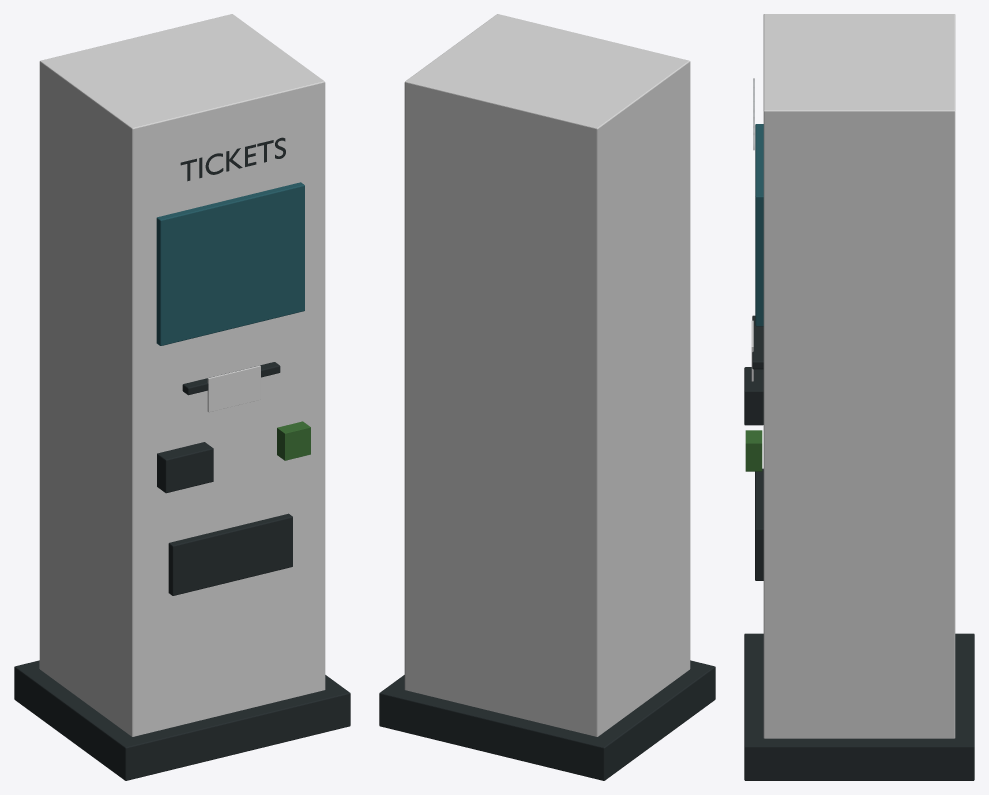
Rendered from ticket-machine.glb.
3 views of the same model, side by side, from view 1: azimuth 30°, elevation 25°; view 2: azimuth 150°, elevation 25°; view 3: azimuth 270°, elevation 25° (orthographic). The views are drawn at different scales.
Visible parts, largest first — view 1: Cabinet, Screen, Base, Receipt_Recess, Card_Reader, Ticket_Paper, Button, Editable_Label_TICKETS, Slot; view 2: Cabinet, Base; view 3: Cabinet, Base, Screen, Card_Reader, Receipt_Recess, Button, Slot.
Part boxes in pixels (x1,y1,x2,y2): Cabinet: [39, 14, 325, 736]; Screen: [156, 182, 304, 345]; Base: [14, 660, 350, 780]; Receipt_Recess: [168, 513, 292, 595]; Card_Reader: [157, 442, 213, 493]; Ticket_Paper: [207, 365, 260, 412]; Button: [277, 421, 310, 460]; Editable_Label_TICKETS: [180, 137, 285, 181]; Slot: [182, 362, 280, 395]; Cabinet: [404, 14, 690, 736]; Base: [379, 660, 715, 780]; Cabinet: [763, 14, 955, 738]; Base: [744, 633, 974, 780]; Screen: [755, 124, 763, 326]; Card_Reader: [744, 367, 763, 425]; Receipt_Recess: [755, 468, 763, 580]; Button: [745, 430, 762, 471]; Slot: [752, 315, 763, 369].
Bounding box in the file's own units: 0.56 × 1.53 × 0.48.
